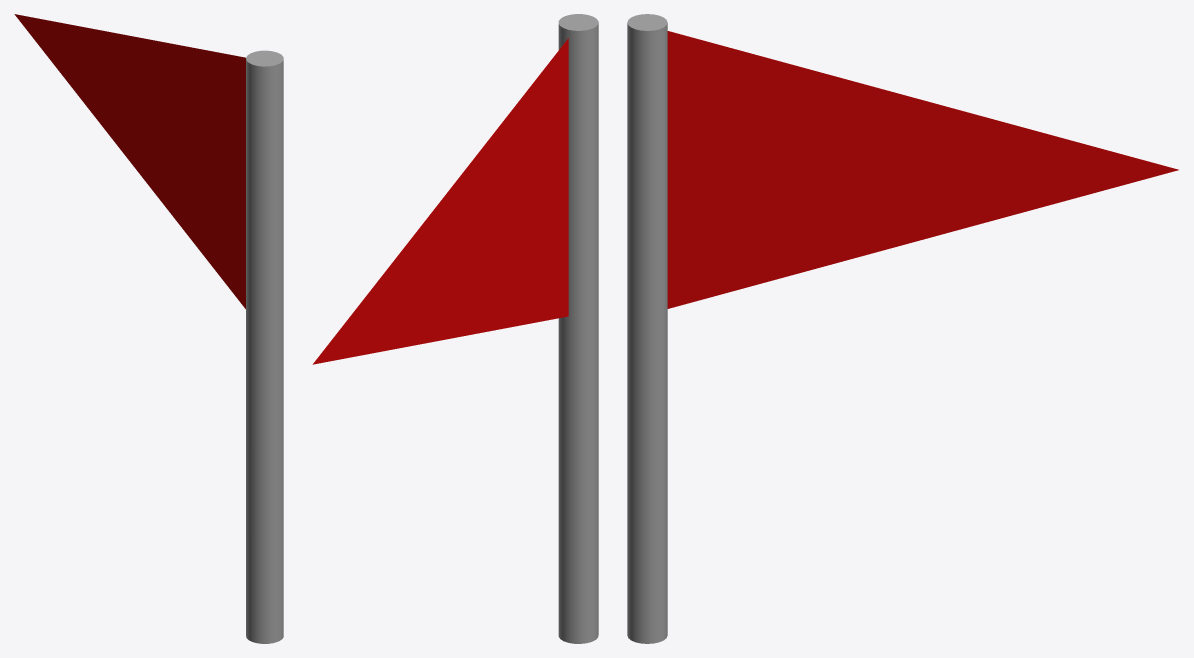
Rendered from SM_Flag.fbx.
3 views of the same model, side by side, from view 1: azimuth 30°, elevation 25°; view 2: azimuth 150°, elevation 25°; view 3: azimuth 270°, elevation 25° (orthographic). The views are drawn at different scales.
Visible parts, largest first — view 1: pPrism2, pCylinder1; view 2: pPrism2, pCylinder1; view 3: pPrism2, pCylinder1.
Boxes of the visible parts, x1,y1,x2,y2 form: pPrism2: (14, 14, 245, 308); pCylinder1: (246, 50, 283, 643); pPrism2: (312, 38, 568, 364); pCylinder1: (558, 14, 598, 643); pPrism2: (667, 31, 1178, 308); pCylinder1: (627, 14, 667, 643).
Size of the model in its own units: 0.7391 by 12.41 by 10.13.
